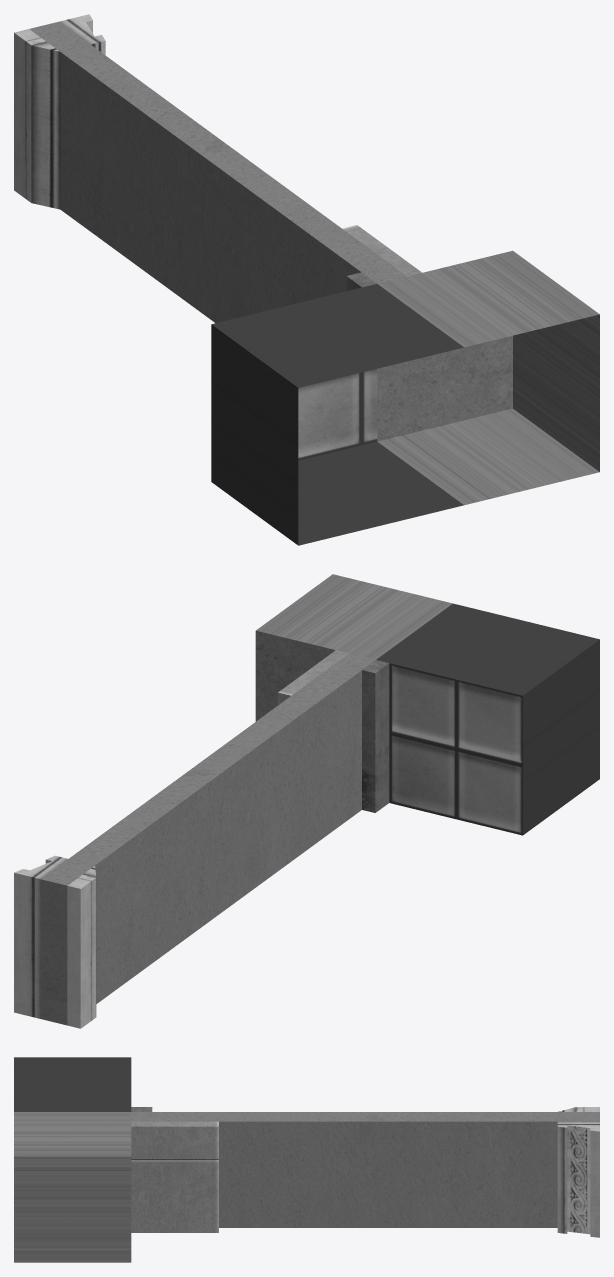
Rendered from A_ground_wall_ 1m.fbx.
3 renders of one model, top to bottom at view 1: azimuth 30°, elevation 25°; view 2: azimuth 150°, elevation 25°; view 3: azimuth 270°, elevation 25°, orthographic. The views are drawn at different scales.
Parts seen in each view (by area): view 1: A_ground_wall__1m; view 2: A_ground_wall__1m; view 3: A_ground_wall__1m.
Part boxes in pixels (box(x1,y1,x2,y2)): A_ground_wall__1m: box(14, 14, 599, 545); A_ground_wall__1m: box(14, 574, 599, 1028); A_ground_wall__1m: box(14, 1057, 599, 1262).
Bounding box in the file's own units: 2 × 1 × 5.
